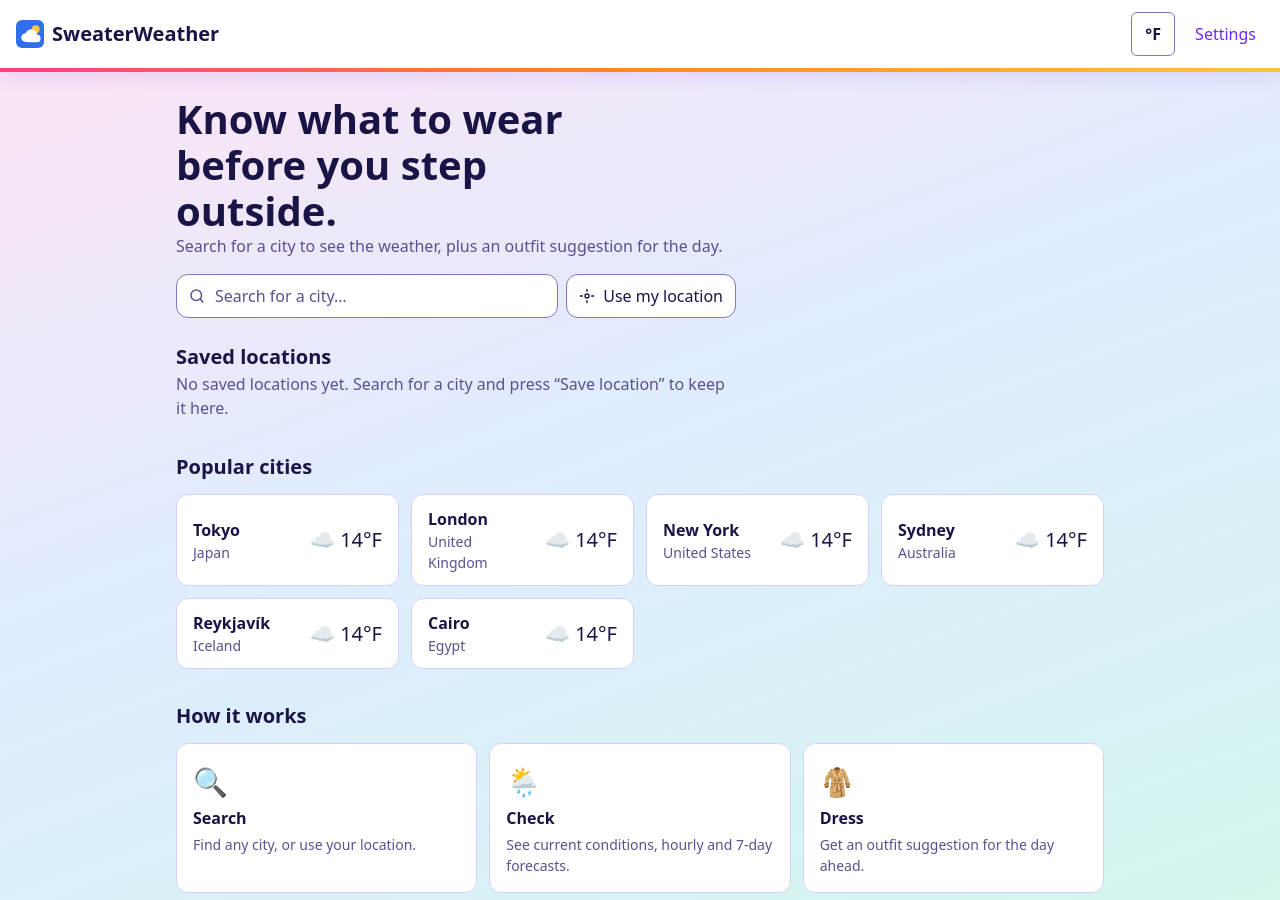
Scenario: app shell › closes settings from the close button
Click the button "Settings" at {"x": 1226, "y": 34}, box [1187, 12, 1264, 56]
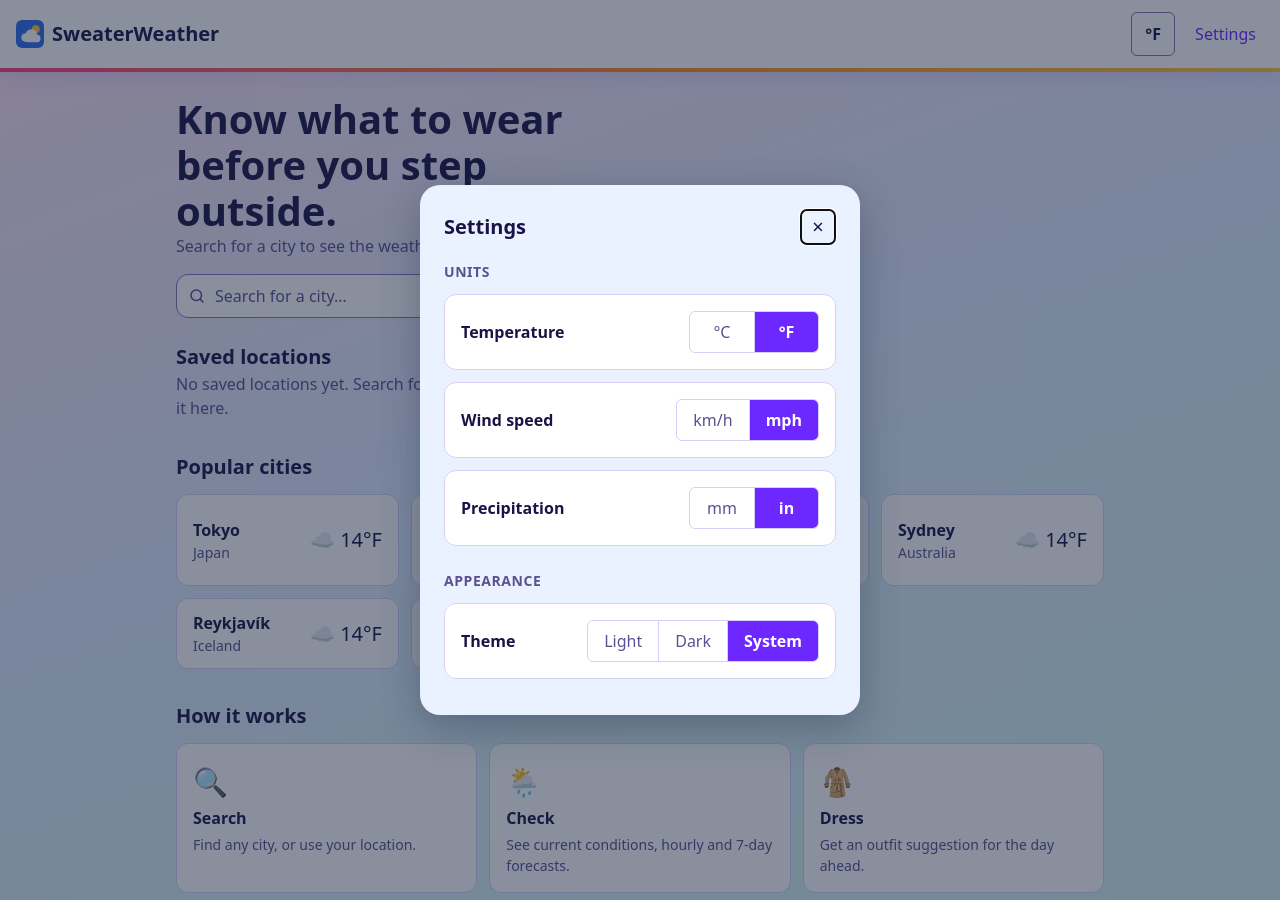
Click the button named "Close settings" at {"x": 818, "y": 227}, box [800, 209, 836, 245]
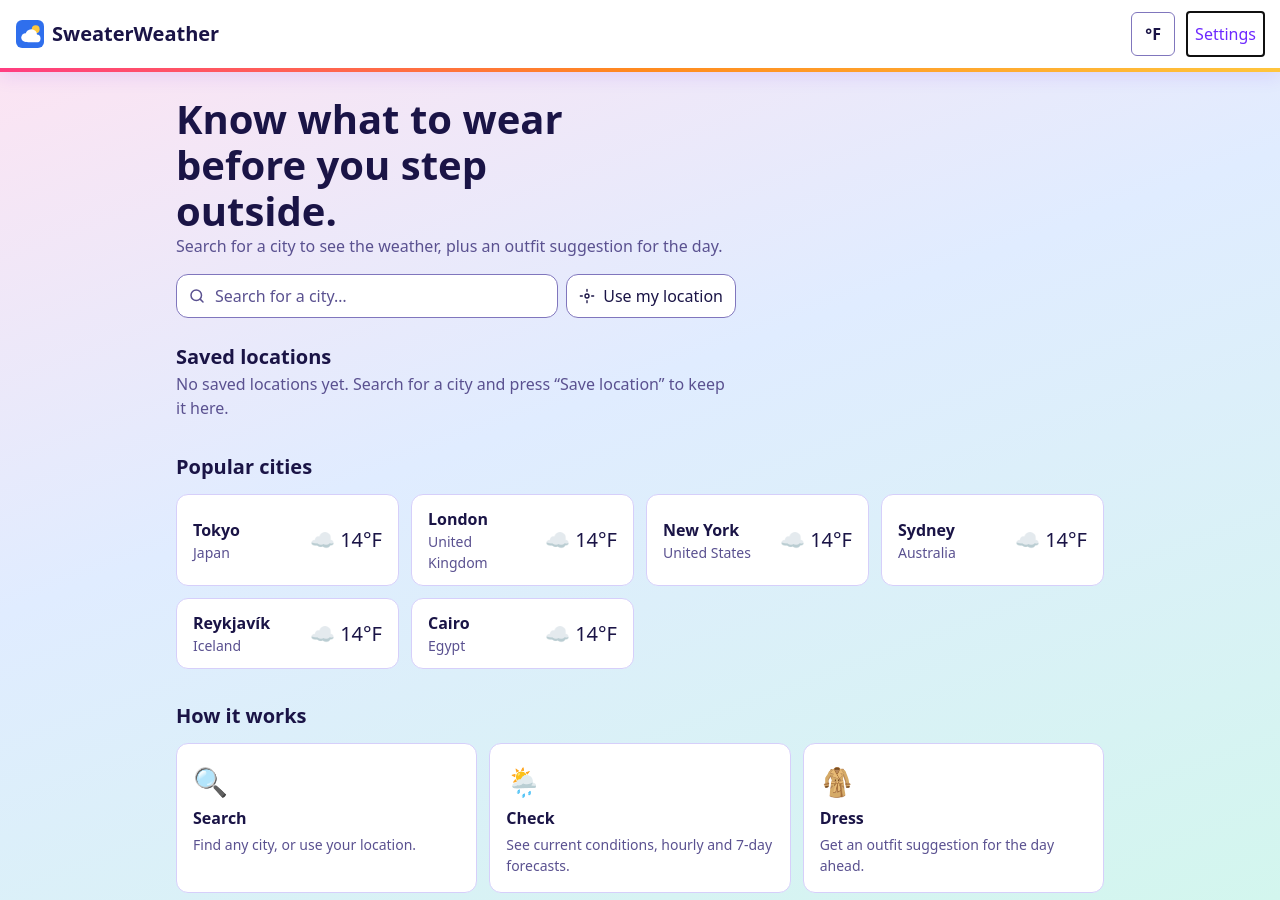
Expected: the dialog is gone
